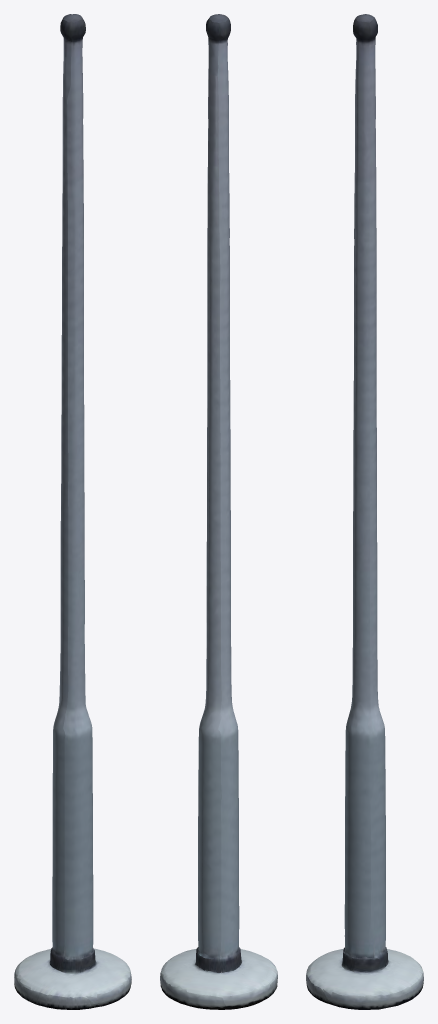
Rendered from fork-pole.glb.
3 renders of one model, left to right at view 1: azimuth 30°, elevation 25°; view 2: azimuth 150°, elevation 25°; view 3: azimuth 330°, elevation 25°, orthographic.
Visible parts, largest first — view 1: p1_pole; view 2: p1_pole; view 3: p1_pole.
Part boxes in pixels (x1,y1,x2,y2): p1_pole: [14, 14, 131, 1009]; p1_pole: [160, 14, 277, 1009]; p1_pole: [306, 14, 423, 1009].
Bounding box in the file's own units: 0.4709 × 4.3 × 0.4688.
Materials: 1 (1 with a texture image).
